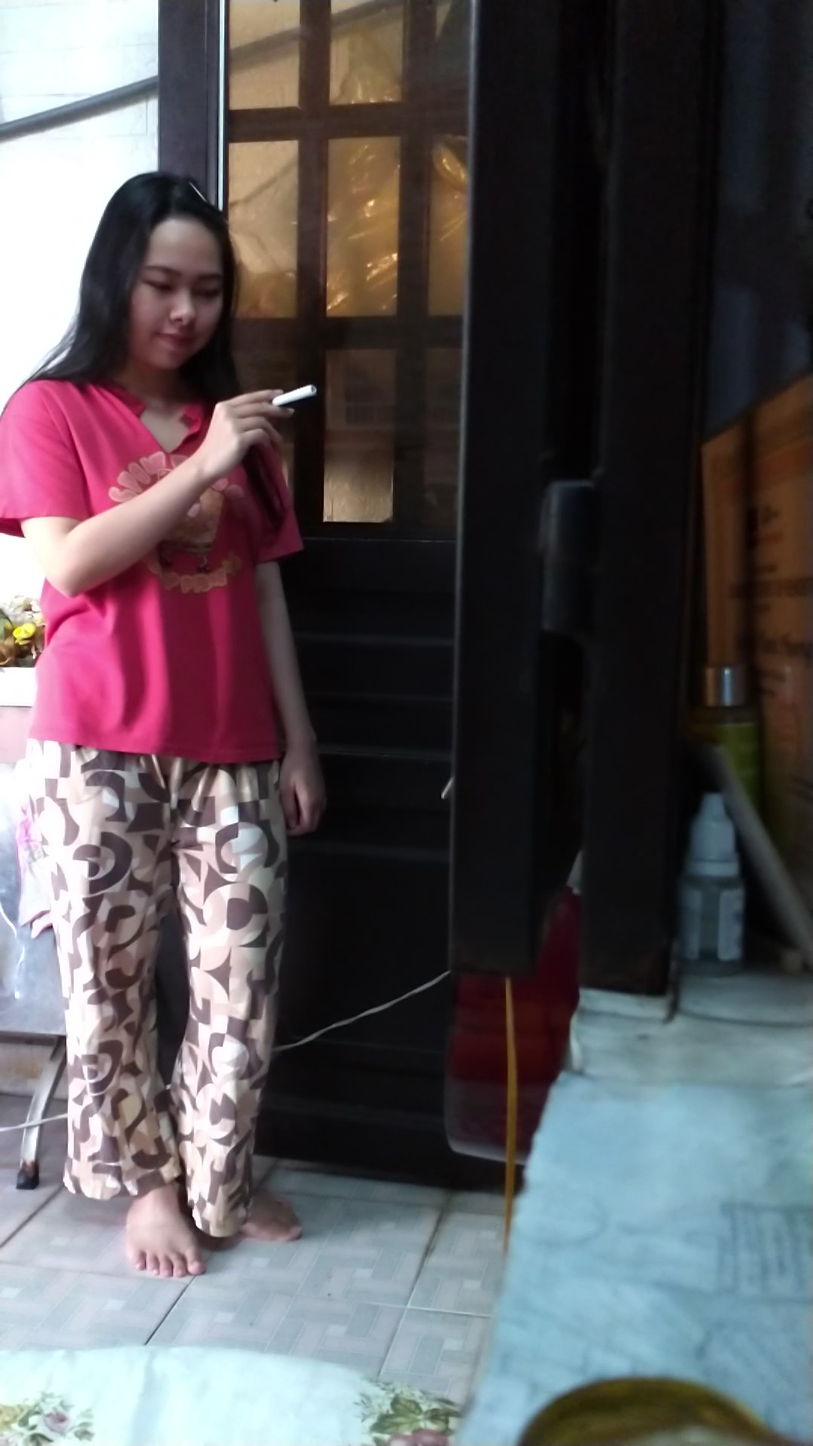cigarette: (270, 380, 324, 408)
person: (4, 113, 336, 1304)
